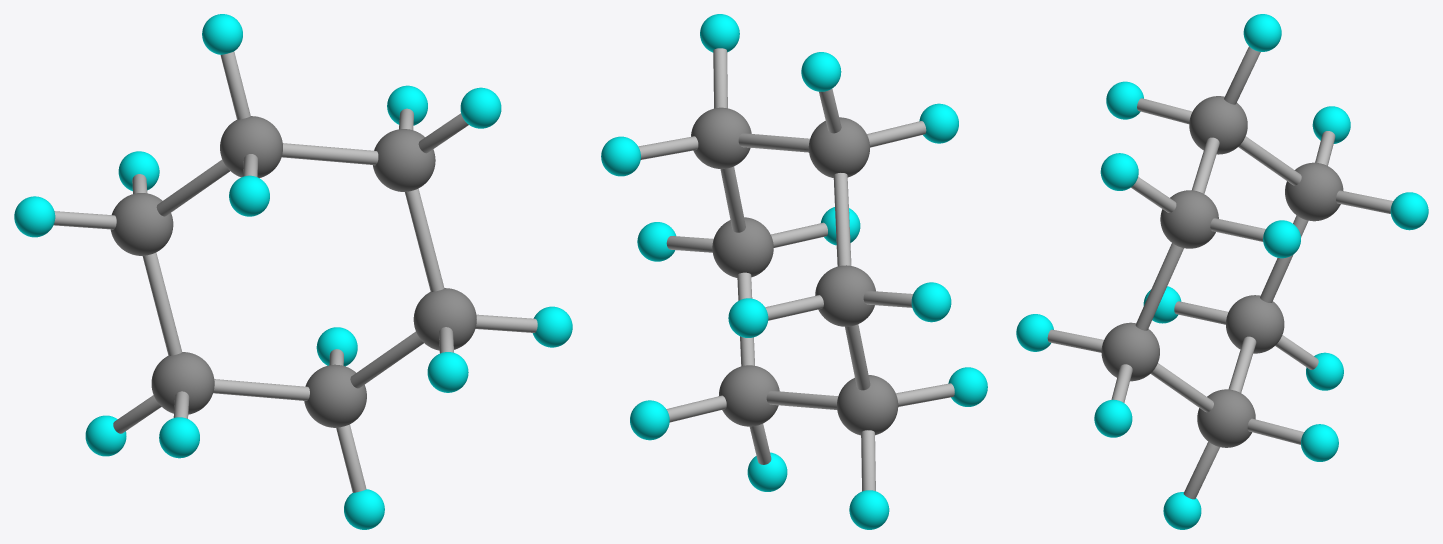
File: cyclohexane.glb
3 views of the same model, side by side, from view 1: azimuth 30°, elevation 25°; view 2: azimuth 150°, elevation 25°; view 3: azimuth 270°, elevation 25° (orthographic). The views are drawn at different scales.
Parts seen in each view (by area): view 1: CMAtom_2, CMAtom_4, CMAtom_0, CMAtom_3, CMAtom_5, CMAtom_1, CMBond_3_Segment_0, CMBond_6_Segment_0, CMBond_4_Segment_0, CMBond_1_Segment_0, CMAtom_7, CMAtom_10 (+18 smaller); view 2: CMAtom_4, CMAtom_0, CMAtom_2, CMAtom_5, CMAtom_3, CMAtom_1, CMBond_2_Segment_0, CMAtom_10, CMAtom_11, CMAtom_12, CMAtom_6, CMAtom_8 (+24 smaller); view 3: CMAtom_2, CMAtom_0, CMAtom_4, CMAtom_1, CMAtom_3, CMAtom_5, CMBond_6_Segment_0, CMAtom_16, CMAtom_6, CMAtom_11, CMAtom_7, CMAtom_14 (+23 smaller).
Boxes of the visible parts, x1,y1,x2,y2 form: CMAtom_2: [110, 193, 173, 255]; CMAtom_4: [304, 364, 366, 427]; CMAtom_0: [373, 129, 435, 191]; CMAtom_3: [151, 352, 214, 414]; CMAtom_5: [413, 288, 476, 350]; CMAtom_1: [220, 116, 282, 177]; CMBond_3_Segment_0: [142, 252, 182, 355]; CMBond_6_Segment_0: [405, 188, 444, 291]; CMBond_4_Segment_0: [213, 379, 309, 400]; CMBond_1_Segment_0: [282, 143, 378, 165]; CMAtom_7: [460, 87, 501, 128]; CMAtom_10: [14, 196, 55, 237]; CMAtom_4: [719, 365, 779, 426]; CMAtom_0: [691, 107, 751, 168]; CMAtom_2: [815, 265, 875, 326]; CMAtom_5: [712, 217, 773, 277]; CMAtom_3: [837, 375, 898, 435]; CMAtom_1: [808, 117, 869, 177]; CMBond_2_Segment_0: [833, 173, 851, 266]; CMAtom_10: [911, 282, 951, 322]; CMAtom_11: [728, 298, 768, 337]; CMAtom_12: [849, 490, 889, 529]; CMAtom_6: [601, 136, 640, 176]; CMAtom_8: [801, 52, 841, 91]; CMAtom_2: [1285, 162, 1343, 221]; CMAtom_0: [1160, 190, 1218, 248]; CMAtom_4: [1197, 389, 1255, 447]; CMAtom_1: [1189, 96, 1247, 154]; CMAtom_3: [1226, 295, 1284, 353]; CMAtom_5: [1101, 322, 1159, 381]; CMBond_6_Segment_0: [1135, 243, 1183, 330]; CMAtom_16: [1094, 399, 1132, 437]; CMAtom_6: [1263, 220, 1300, 258]; CMAtom_11: [1390, 192, 1428, 230]; CMAtom_7: [1100, 153, 1138, 190]; CMAtom_14: [1301, 424, 1338, 461].
Bounding box in the file's own units: 4.9 × 5.43 × 4.34.
